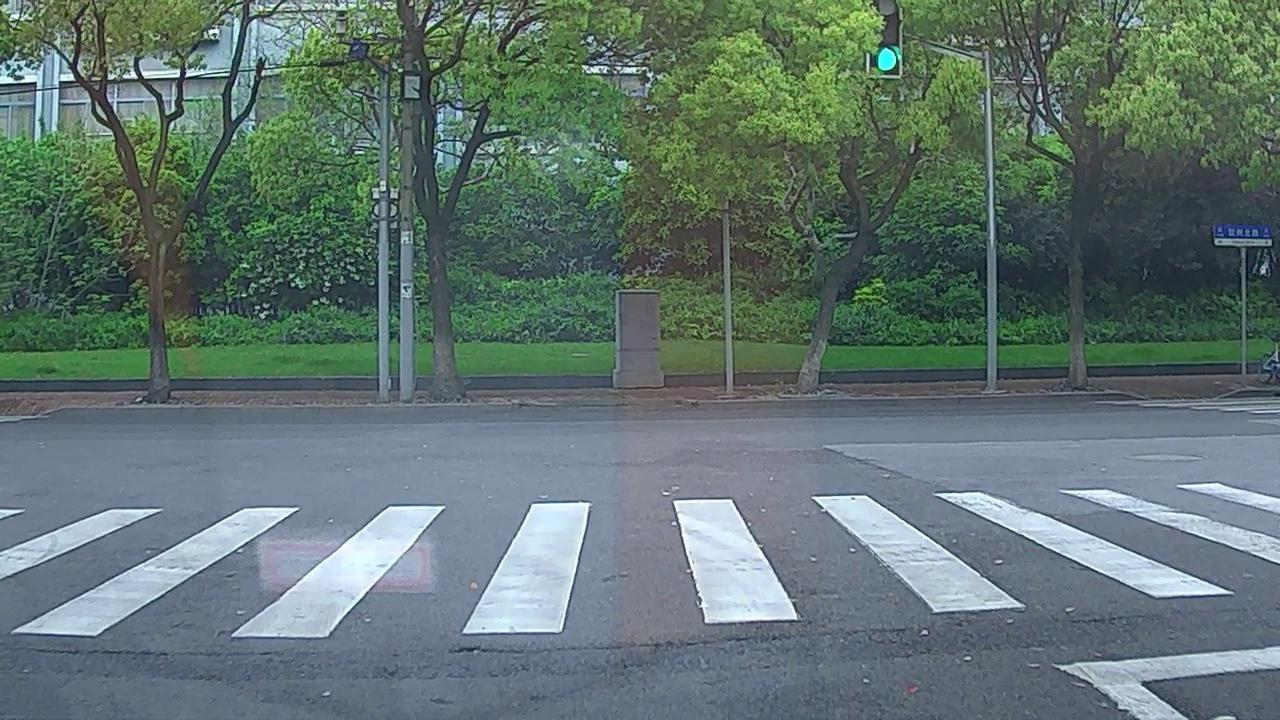traffic_light: (869, 1, 906, 79)
